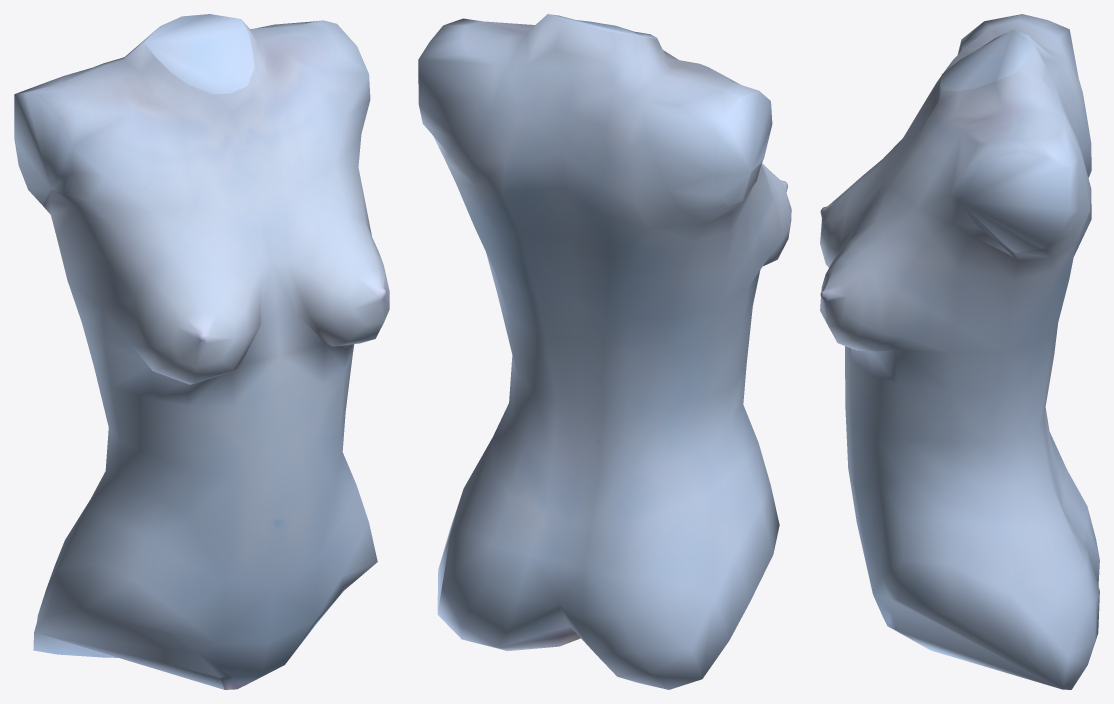
The model's file is FemaleSkin.fbx.
3 views of the same model, side by side, from view 1: azimuth 30°, elevation 25°; view 2: azimuth 150°, elevation 25°; view 3: azimuth 270°, elevation 25° (orthographic). The views are drawn at different scales.
Visible parts, largest first — view 1: FemaleSkin; view 2: FemaleSkin; view 3: FemaleSkin.
Boxes of the visible parts, x1,y1,x2,y2 form: FemaleSkin: (14,14,389,689); FemaleSkin: (418,14,791,689); FemaleSkin: (820,14,1099,689).
Size of the model in its own units: 28.94 by 57.88 by 24.36.
Materials: 1 (1 with a texture image).
